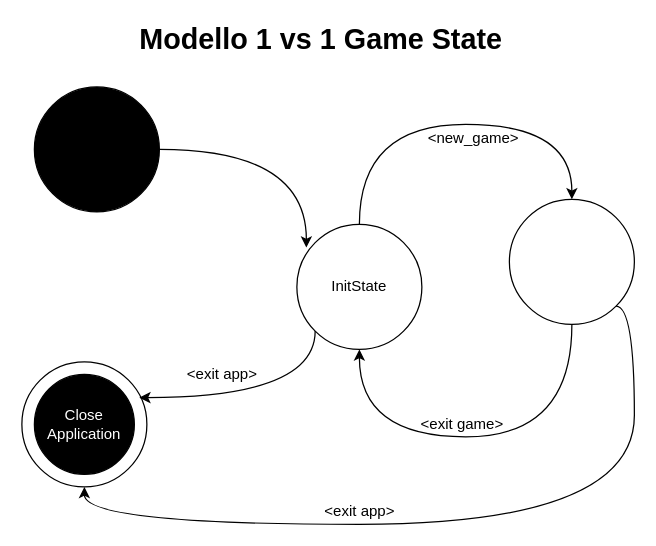
This 656x546 diagram has some shape labels left out. The shapes that lost their labels are listed below. From the top down, each one's centre as x and y in pixels, then its label:
At (96,149): "Start Application".
At (571,261): "RoundState".
